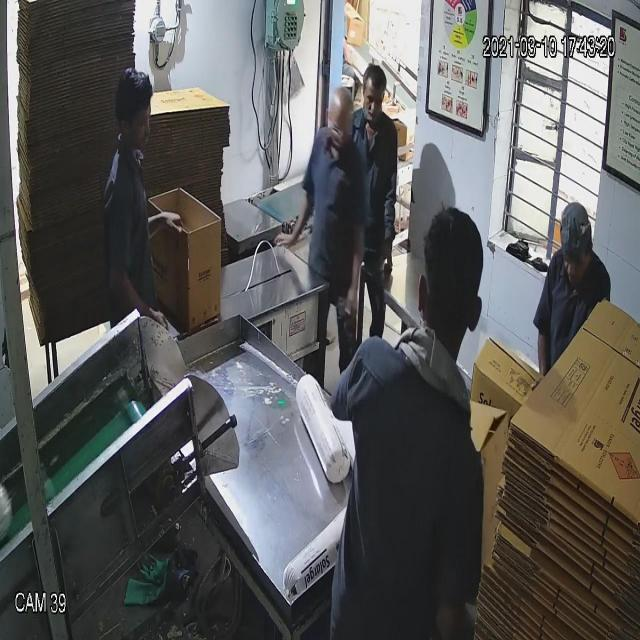No_Gloves: (270, 176, 322, 266)
